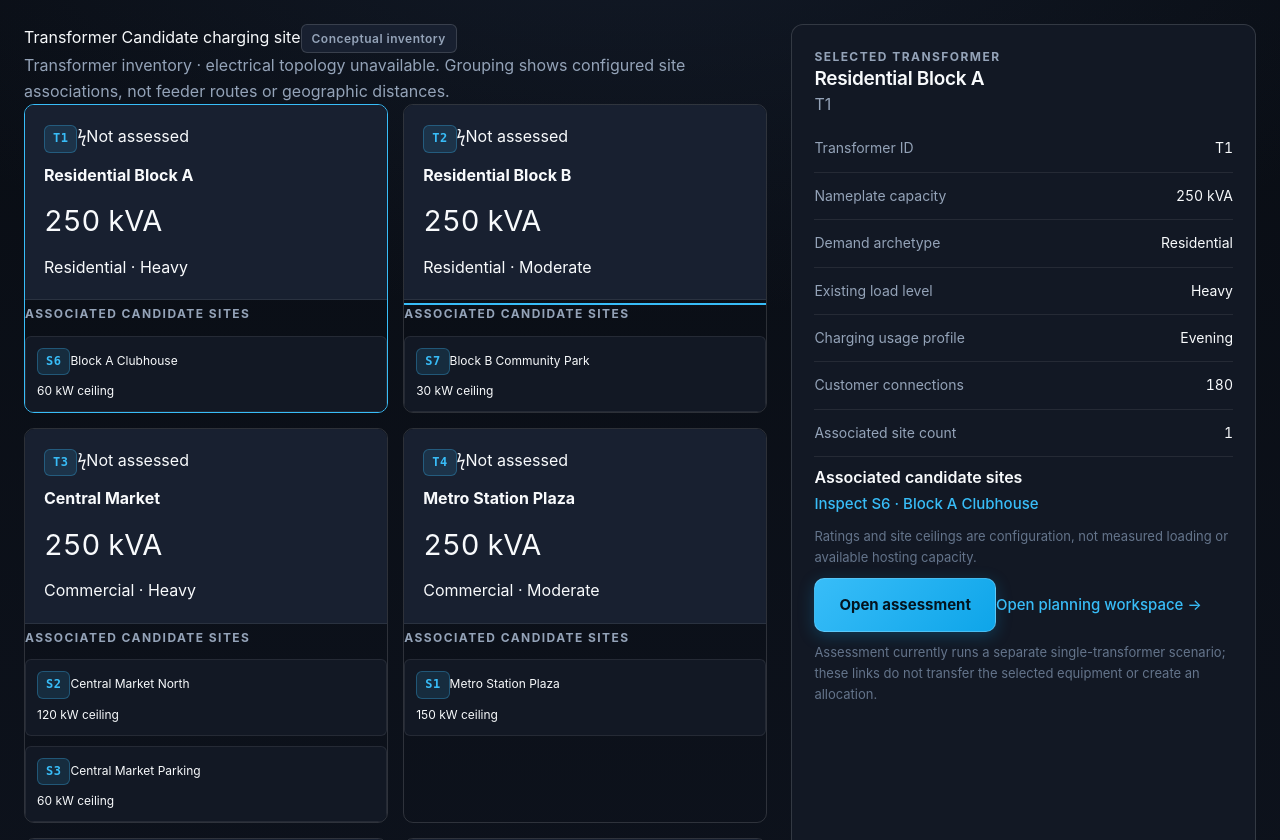
Test: API-backed network explorer › uses native focusable buttons and supports keyboard-generated activation
// Native Enter/Space activation emits a click without pointer coordinates.
Step 1. Click the button with aria-label "Inspect transformer T2:" → click(440, 139), box left=404, top=105, right=766, bottom=300
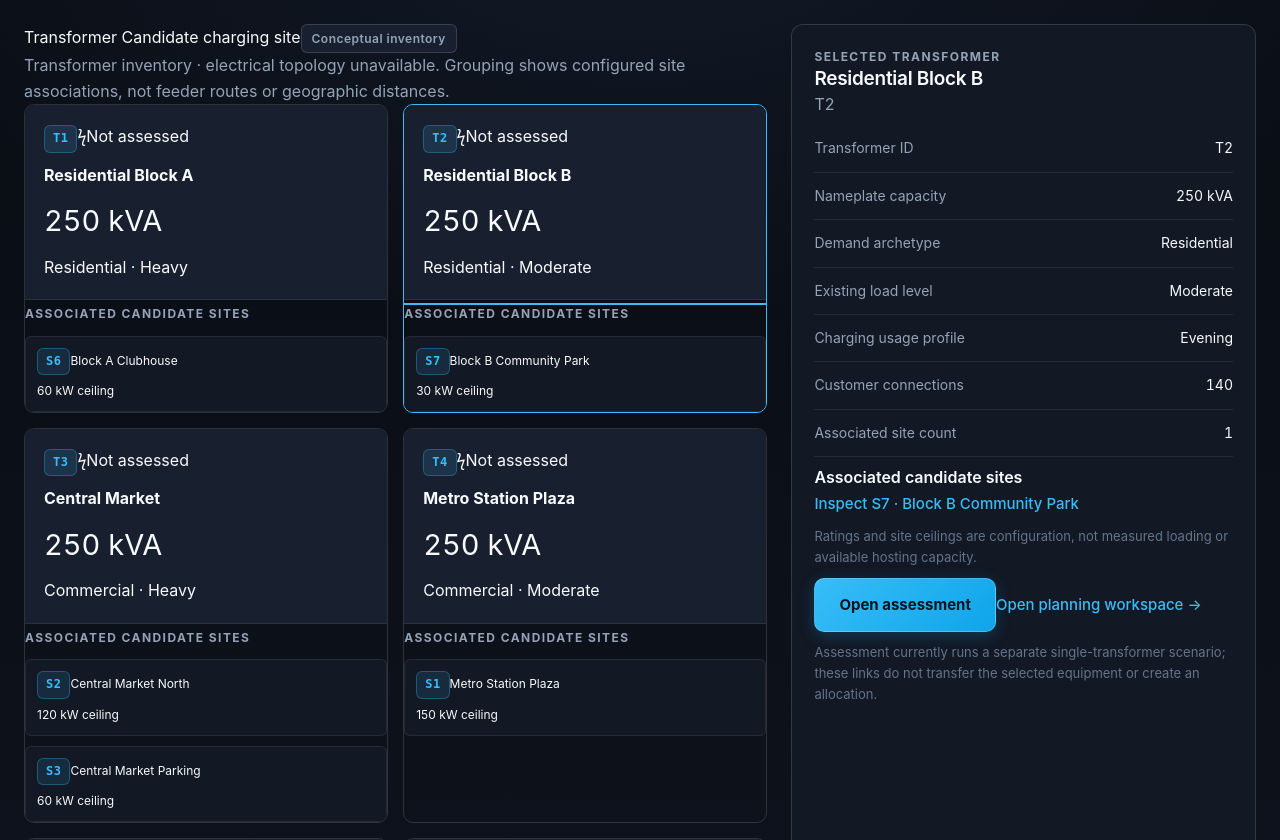
Expected: the heading "Residential Block B" is shown, left=814, top=67, right=983, bottom=90
